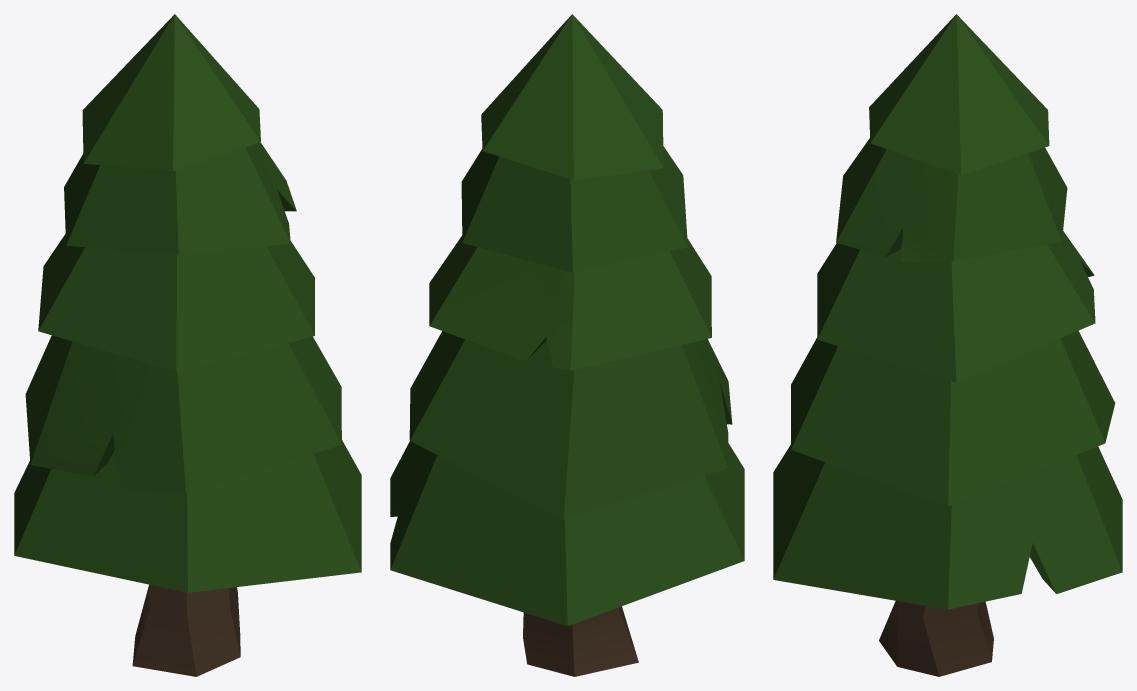
File: Pinetree.fbx
The picture shows the model from 3 angles, left to right: view 1: azimuth 30°, elevation 25°; view 2: azimuth 150°, elevation 25°; view 3: azimuth 270°, elevation 25°; orthographic projection. The views are drawn at different scales.
Visible parts, largest first — view 1: pCylinder3, pCylinder2, pCylinder4, pCylinder5, pCylinder6, pCylinder1; view 2: pCylinder3, pCylinder2, pCylinder4, pCylinder5, pCylinder6, pCylinder1; view 3: pCylinder2, pCylinder3, pCylinder4, pCylinder5, pCylinder6, pCylinder1.
Part boxes in pixels (x1,y1,x2,y2): pCylinder3: [25, 335, 341, 493]; pCylinder2: [14, 440, 361, 592]; pCylinder4: [38, 234, 314, 371]; pCylinder5: [64, 142, 296, 254]; pCylinder6: [82, 14, 260, 171]; pCylinder1: [132, 584, 240, 676]; pCylinder3: [409, 331, 732, 519]; pCylinder2: [390, 441, 744, 626]; pCylinder4: [429, 235, 711, 370]; pCylinder5: [461, 146, 687, 272]; pCylinder6: [481, 14, 663, 180]; pCylinder1: [523, 606, 638, 676]; pCylinder2: [773, 444, 1122, 609]; pCylinder3: [791, 330, 1115, 506]; pCylinder4: [817, 231, 1095, 382]; pCylinder5: [836, 138, 1067, 261]; pCylinder6: [869, 14, 1049, 175]; pCylinder1: [879, 601, 993, 676].
Bounding box in the file's own units: 0.022 × 0.0381 × 0.019.
